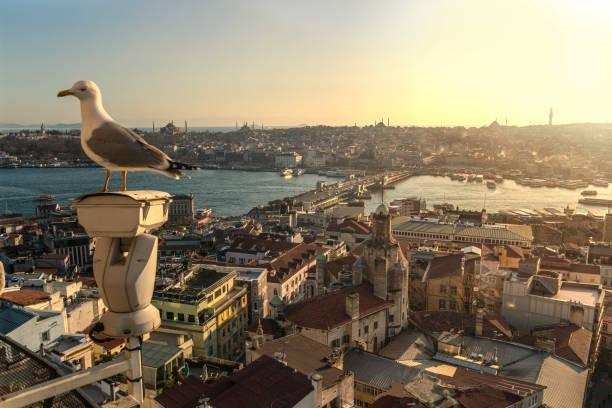camera: (54, 180, 205, 266)
